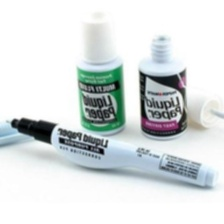correction_fluid: (3, 114, 220, 190), (74, 10, 127, 139), (136, 33, 190, 142)
